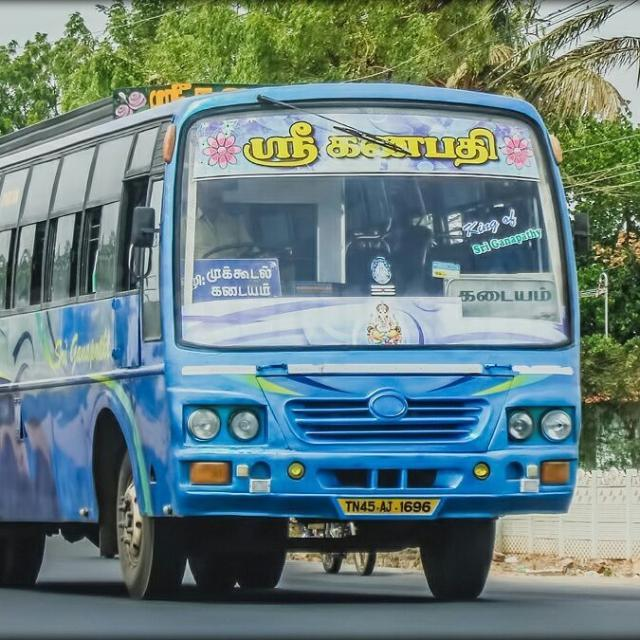Bus: (1, 77, 594, 605)
